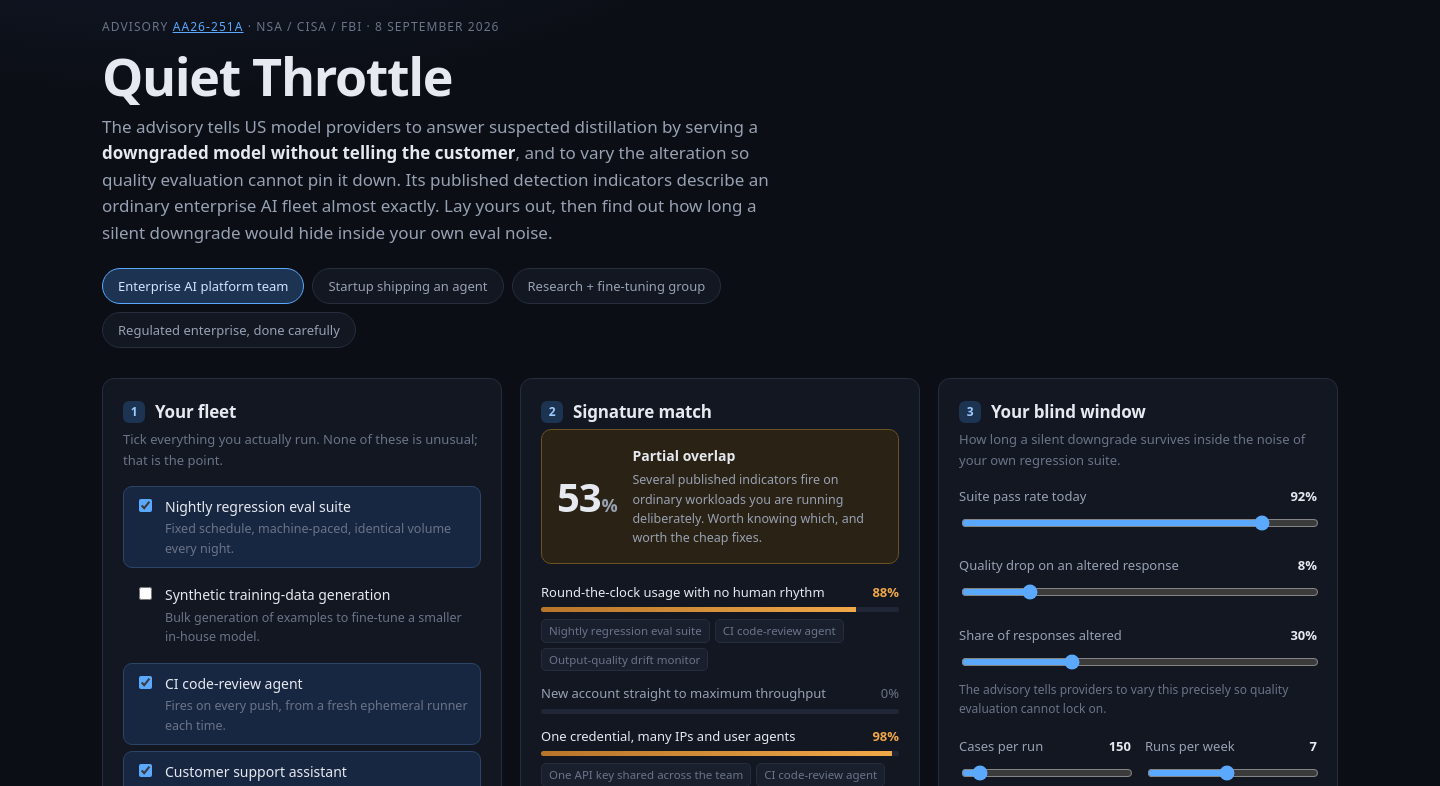
App › reports no detectable change when nothing is altered
The image size is (1440, 786).
Set the slider labelled "Share of responses altered 30%" to "0" at (969, 662), box [961,654,1319,670]
(page scrolled)
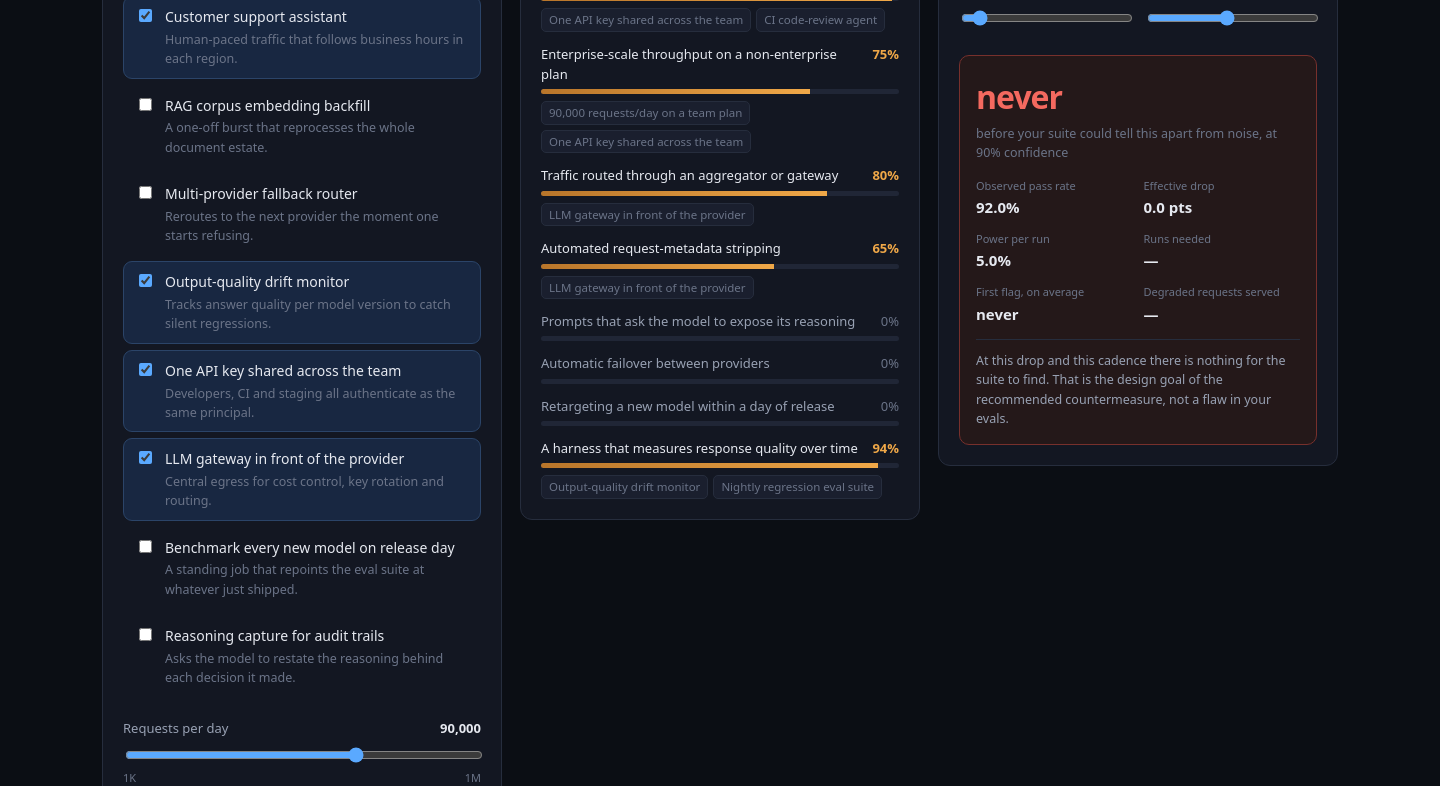
Check: the text "nothing for the suite to find" is shown, box [976,352,1286,427]
